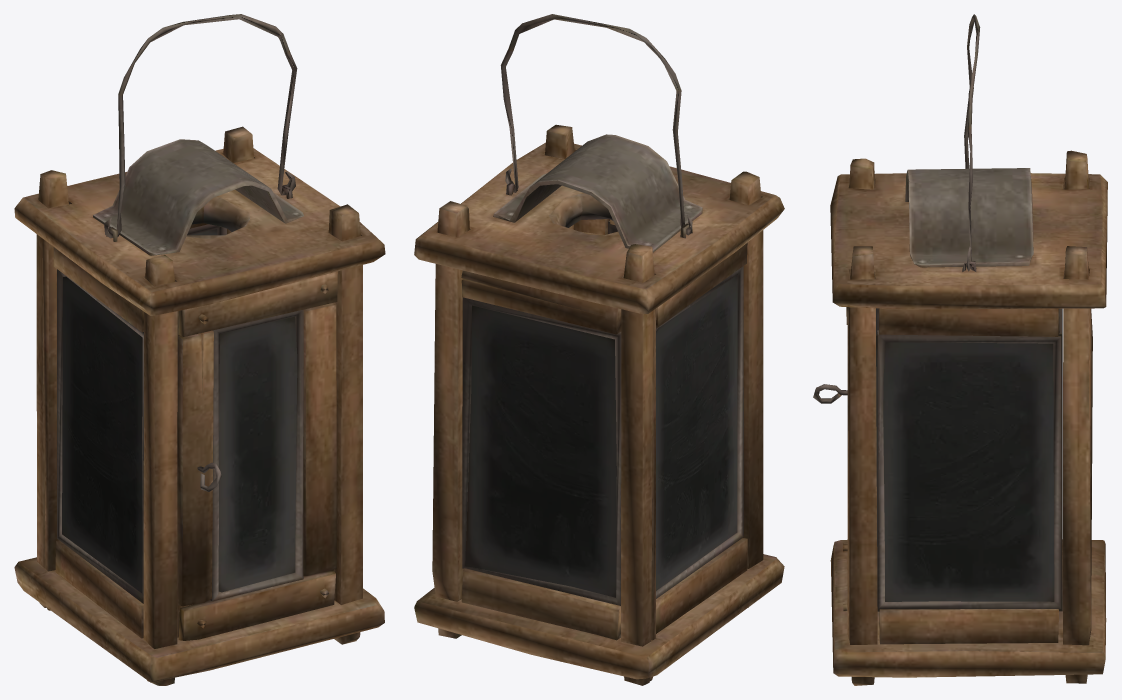
Rendered from wooden_lantern_01-lod.glb.
3 views of the same model, side by side, from view 1: azimuth 30°, elevation 25°; view 2: azimuth 150°, elevation 25°; view 3: azimuth 270°, elevation 25° (orthographic).
Parts seen in each view (by area): view 1: wooden_lantern_01, wooden_lantern_01_door, wooden_lantern_01_handle; view 2: wooden_lantern_01, wooden_lantern_01_handle, wooden_lantern_01_door; view 3: wooden_lantern_01, wooden_lantern_01_handle, wooden_lantern_01_door.
Boxes of the visible parts, x1,y1,x2,y2 form: wooden_lantern_01: (14,126,385,685); wooden_lantern_01_door: (177,271,337,640); wooden_lantern_01_handle: (104,14,297,238); wooden_lantern_01: (414,124,784,685); wooden_lantern_01_handle: (500,14,692,235); wooden_lantern_01_door: (574,219,617,234); wooden_lantern_01: (830,150,1107,685); wooden_lantern_01_handle: (964,14,980,271); wooden_lantern_01_door: (813,307,848,611).
Size of the model in its own units: 0.2208 by 0.5278 by 0.2331.
2 materials, 2 textured.
